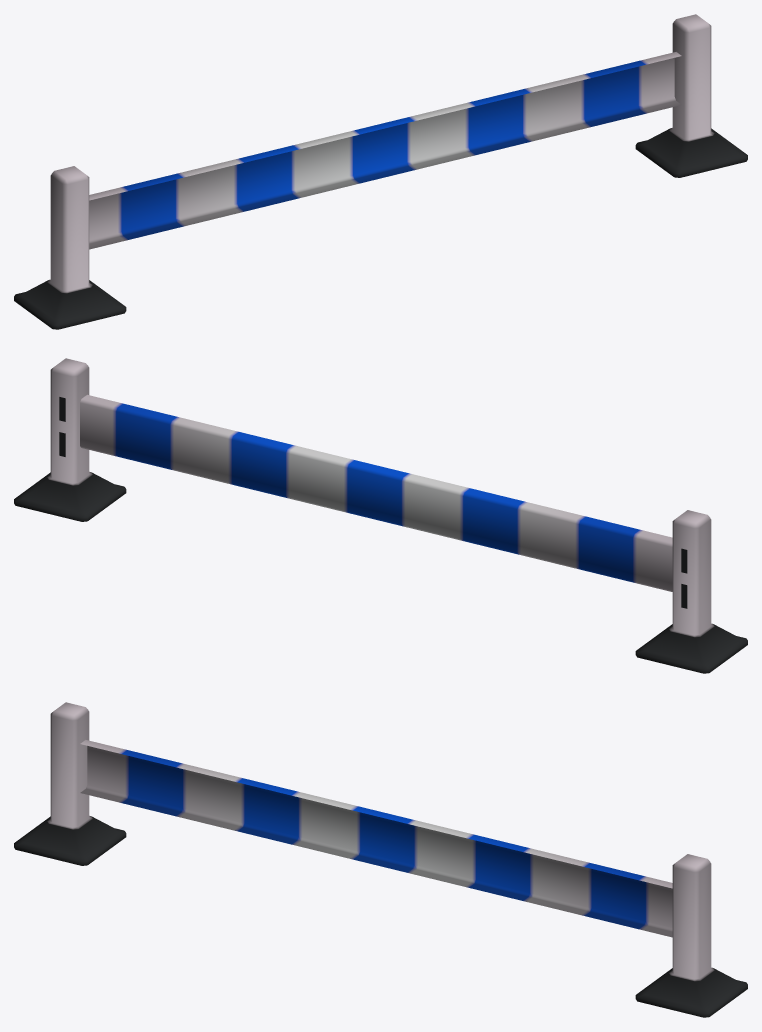
The model's file is RoadWorksBarrierLow.fbx.
The picture shows the model from 3 angles, top to bottom: view 1: azimuth 30°, elevation 25°; view 2: azimuth 150°, elevation 25°; view 3: azimuth 330°, elevation 25°; orthographic projection.
Visible parts, largest first — view 1: RoadWorksBarrierLow; view 2: RoadWorksBarrierLow; view 3: RoadWorksBarrierLow.
Part boxes in pixels (left/top/right/bottom): RoadWorksBarrierLow: left=14, top=14, right=747, bottom=329; RoadWorksBarrierLow: left=14, top=358, right=747, bottom=673; RoadWorksBarrierLow: left=14, top=702, right=747, bottom=1017.
Bounding box in the file's own units: 402 × 73.62 × 42.57.
